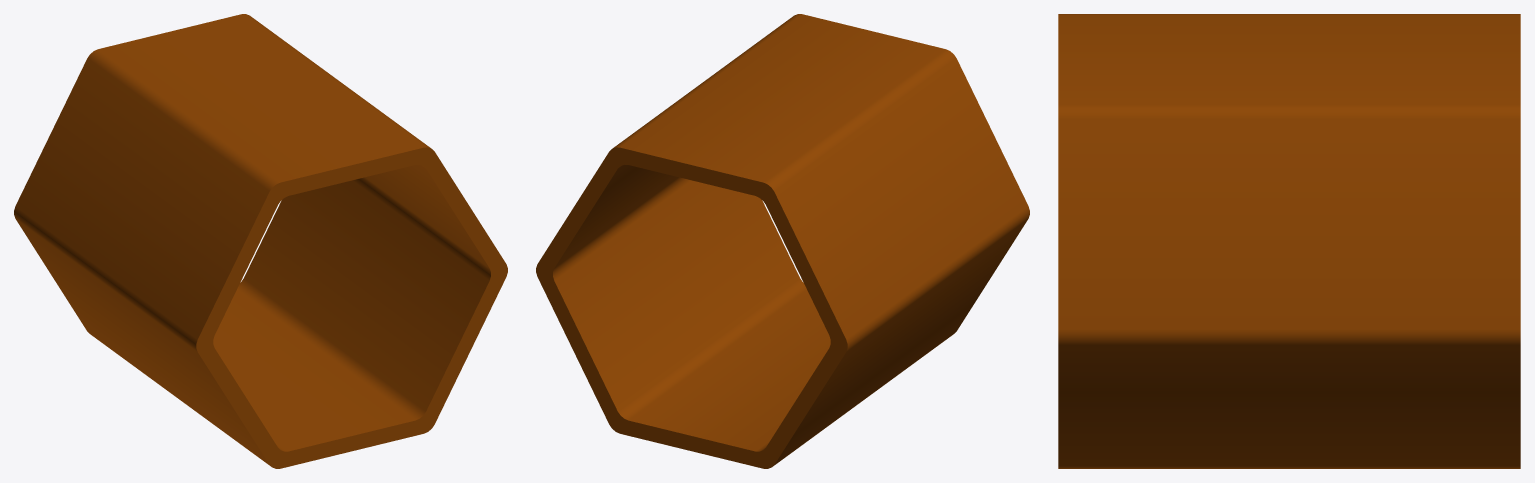
Rendered from HoneyComb.fbx.
The picture shows the model from 3 angles, left to right: view 1: azimuth 30°, elevation 25°; view 2: azimuth 150°, elevation 25°; view 3: azimuth 270°, elevation 25°; orthographic projection. The views are drawn at different scales.
Parts seen in each view (by area): view 1: HoneyComb; view 2: HoneyComb; view 3: HoneyComb.
Part boxes in pixels (left/top/right/bottom): HoneyComb: left=14, top=14, right=507, bottom=468; HoneyComb: left=536, top=14, right=1029, bottom=468; HoneyComb: left=1058, top=14, right=1520, bottom=468.
Bounding box in the file's own units: 0.355 × 0.3118 × 0.36.
